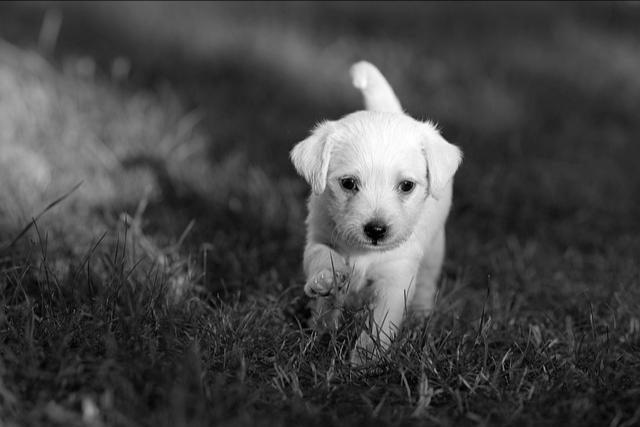Non_Gorille: (177, 12, 549, 400)
